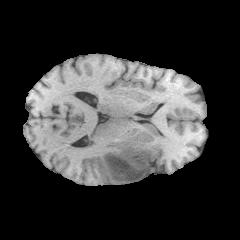glioma: (71, 144, 152, 183)
